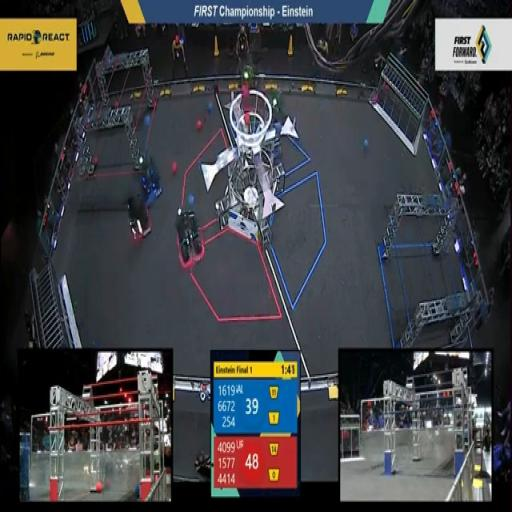robot: (171, 206, 206, 272), (123, 194, 153, 250), (137, 155, 164, 206), (264, 118, 282, 164)
